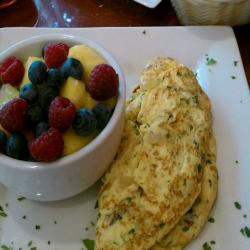omelette: (92, 52, 223, 250)
